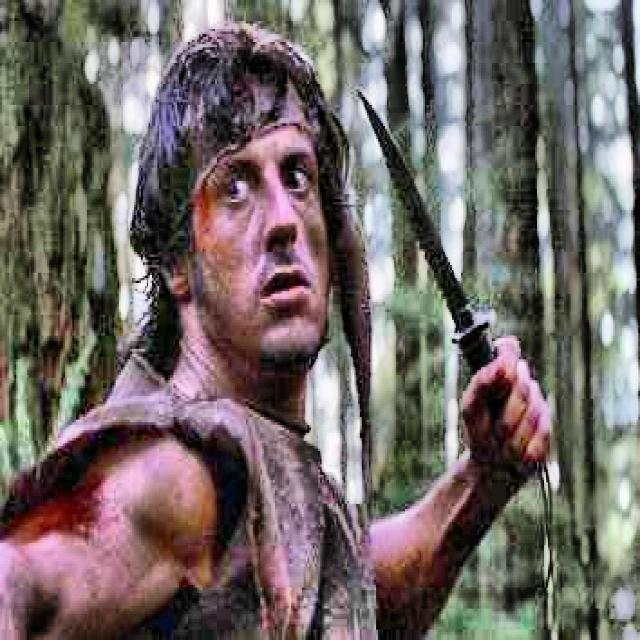knife: (359, 91, 537, 482)
